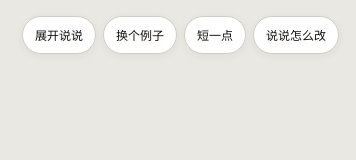
Test: intent panel is hidden until the toggle is clicked
The width and height of the screenshot is (356, 160).
Click the button with test id "intent-toggle".
click(296, 35)  # box top-left (253, 16), bottom-right (339, 54)
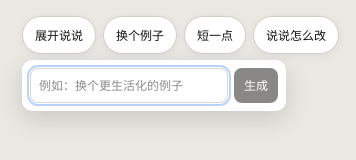
Now the form with test id "intent-panel" is shown, box top-left (22, 60), bottom-right (286, 111)
